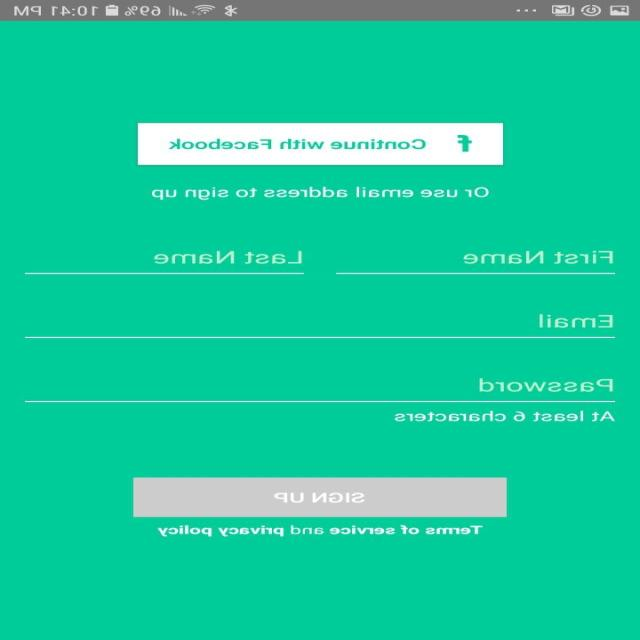EditText: (25, 377, 616, 403), (25, 314, 616, 338), (336, 250, 616, 275), (25, 250, 305, 274)
Text: (152, 187, 491, 200), (157, 524, 483, 537), (395, 409, 617, 422), (154, 250, 304, 264), (464, 250, 614, 264), (480, 377, 614, 392), (540, 314, 614, 328)
TextButton: (138, 122, 504, 166), (133, 477, 508, 517)
